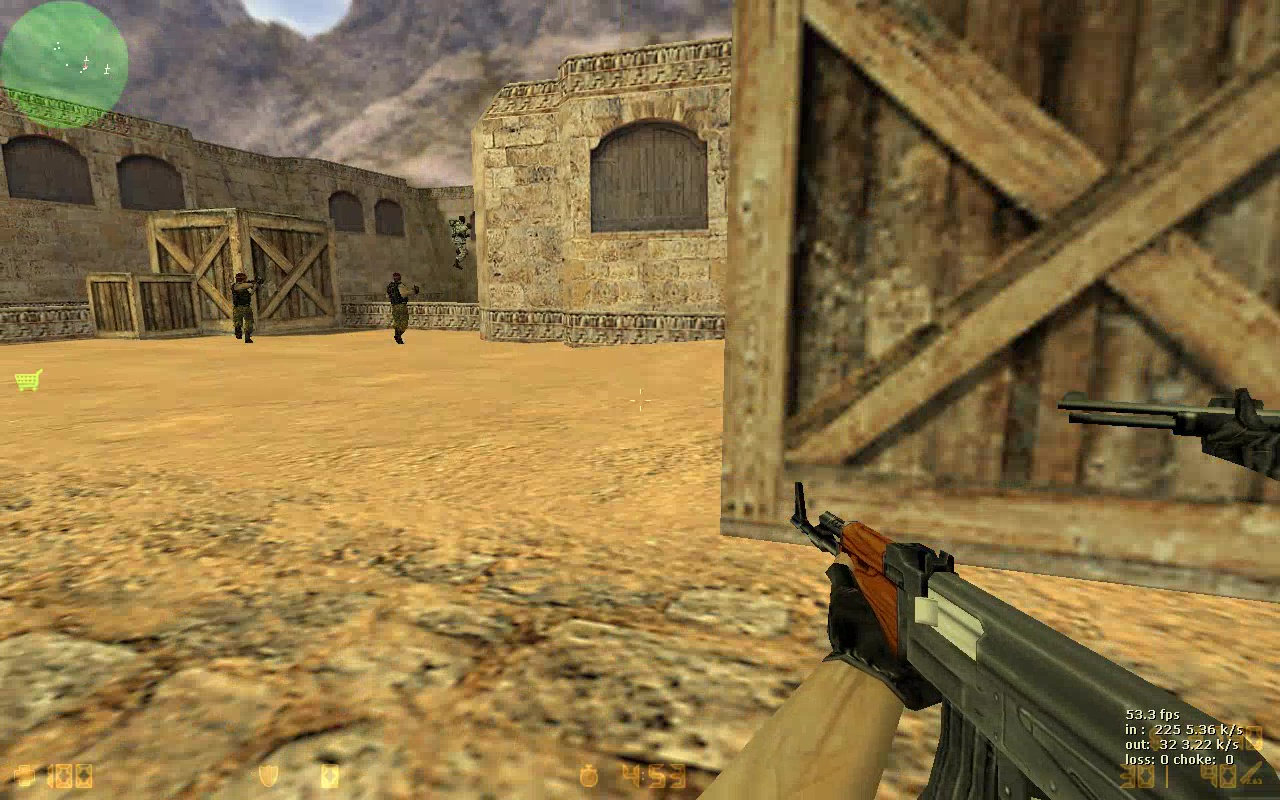terr1: (385, 272, 420, 343), (231, 272, 263, 343)
